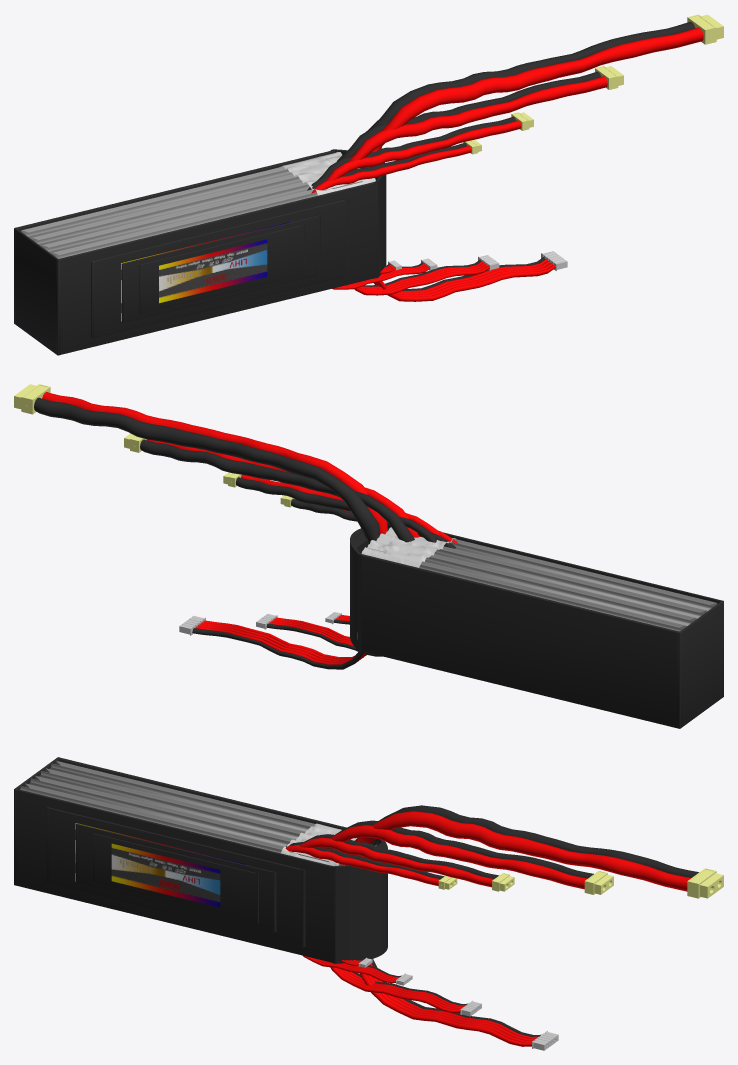
3 renders of one model, top to bottom at view 1: azimuth 30°, elevation 25°; view 2: azimuth 150°, elevation 25°; view 3: azimuth 330°, elevation 25°, orthographic.
Visible parts, largest first — view 1: 电池1, 电池003, x2, x006, 电池007, 电池006, 电池005, x010, x1, x014, x005, x4 (+1 smaller); view 2: 电池1, x2, x006, x1, x010, x005, x014, x4; view 3: 电池1, 电池003, x2, x006, 电池007, 电池006, 电池005, x010, x1, x014, x005, x4 (+2 smaller).
Boxes of the visible parts, x1,y1,x2,y2 form: 电池1: [14, 149, 386, 355]; 电池003: [91, 198, 348, 338]; x2: [360, 21, 703, 179]; x006: [337, 71, 607, 172]; 电池007: [139, 224, 304, 313]; 电池006: [159, 239, 267, 303]; 电池005: [121, 214, 320, 322]; x010: [317, 117, 521, 181]; x1: [374, 257, 555, 301]; x014: [307, 142, 471, 193]; x005: [352, 260, 489, 295]; x4: [687, 14, 723, 44]; 电池1: [350, 527, 723, 728]; x2: [34, 392, 387, 543]; x006: [140, 439, 420, 542]; x1: [192, 620, 366, 669]; x010: [236, 475, 440, 542]; x005: [266, 617, 382, 656]; x014: [291, 499, 458, 548]; x4: [14, 384, 50, 414]; 电池1: [14, 757, 387, 963]; 电池003: [46, 807, 305, 946]; x2: [353, 805, 698, 891]; x006: [321, 820, 593, 889]; 电池007: [93, 833, 258, 923]; 电池006: [111, 843, 220, 907]; 电池005: [76, 824, 276, 931]; x010: [299, 834, 498, 887]; x1: [360, 959, 541, 1046]; x014: [285, 842, 444, 886]; x005: [330, 967, 467, 1013]; x4: [687, 868, 723, 898].
Size of the model in its own units: 32.12 by 9.27 by 3.76.
Materials: 9 (4 with a texture image).
